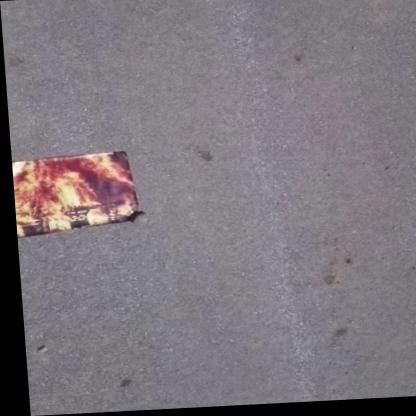fire-poster: (10, 149, 143, 239)
